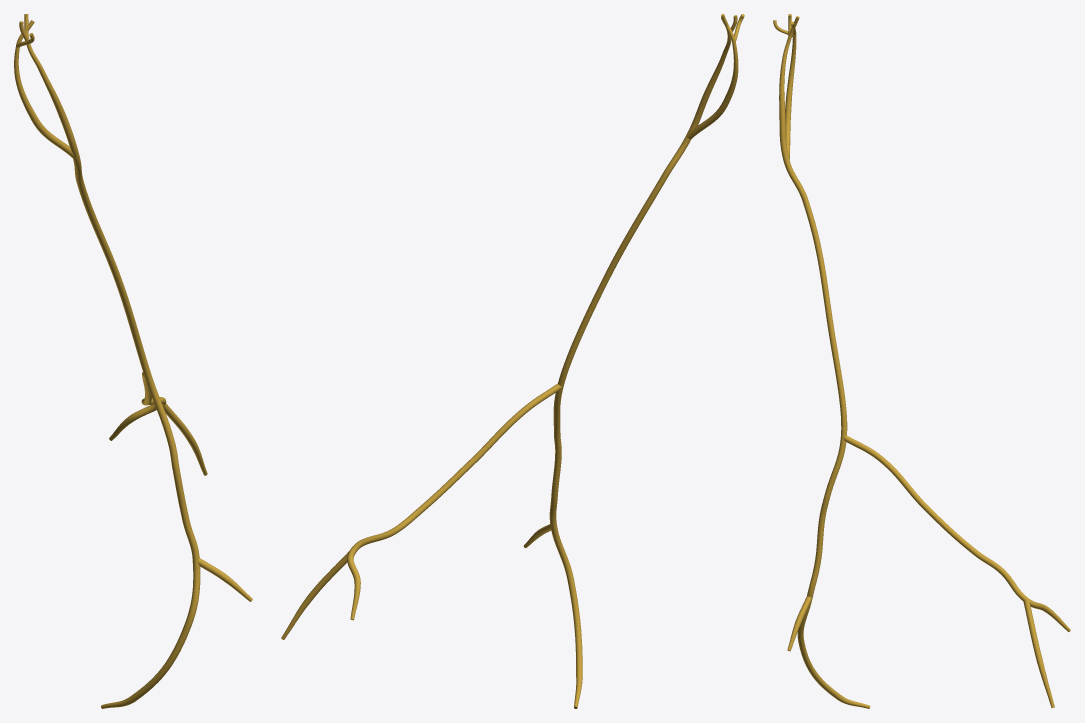
3 renders of one model, left to right at view 1: azimuth 30°, elevation 25°; view 2: azimuth 150°, elevation 25°; view 3: azimuth 270°, elevation 25°, orthographic. The views are drawn at different scales.
Visible parts, largest first — view 1: 左侧动眼神经; view 2: 左侧动眼神经; view 3: 左侧动眼神经.
Boxes of the visible parts, x1,y1,x2,y2 form: 左侧动眼神经: (14, 14, 252, 708); 左侧动眼神经: (281, 14, 744, 708); 左侧动眼神经: (773, 14, 1070, 708).
Size of the model in its own units: 0.0573 by 0.1198 by 0.0503.
